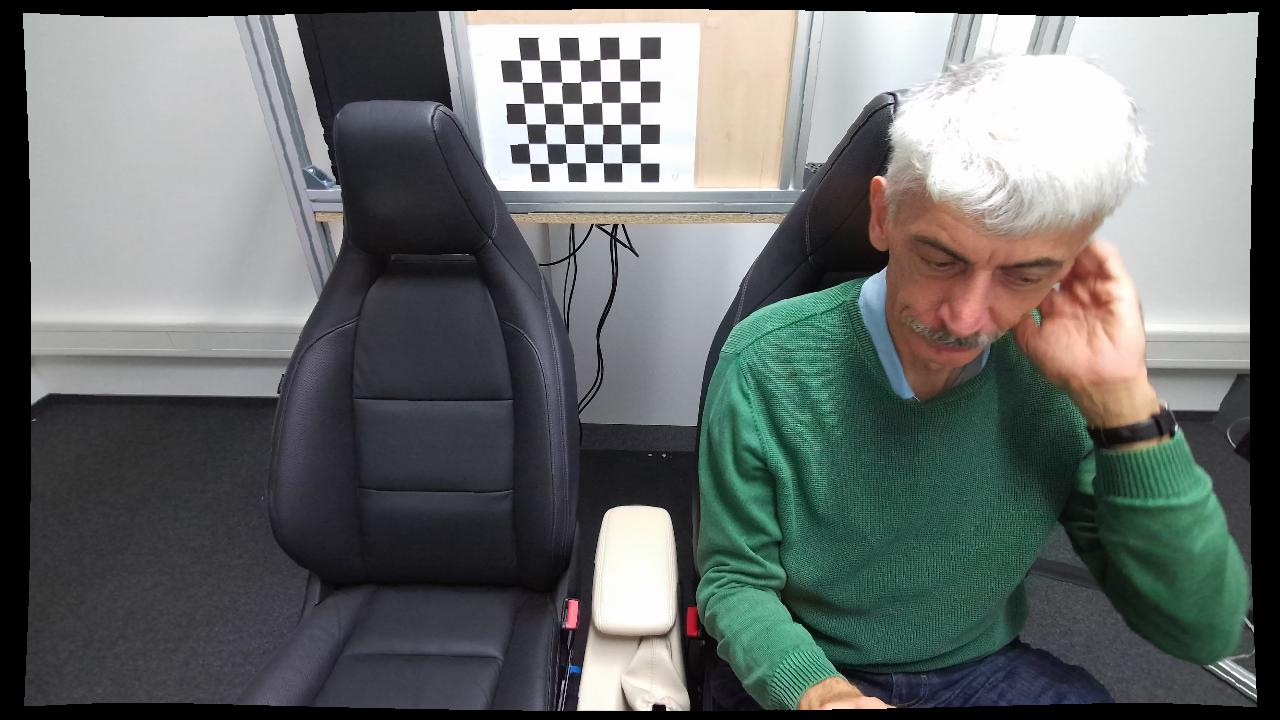Distracted: (699, 53, 1236, 720)
